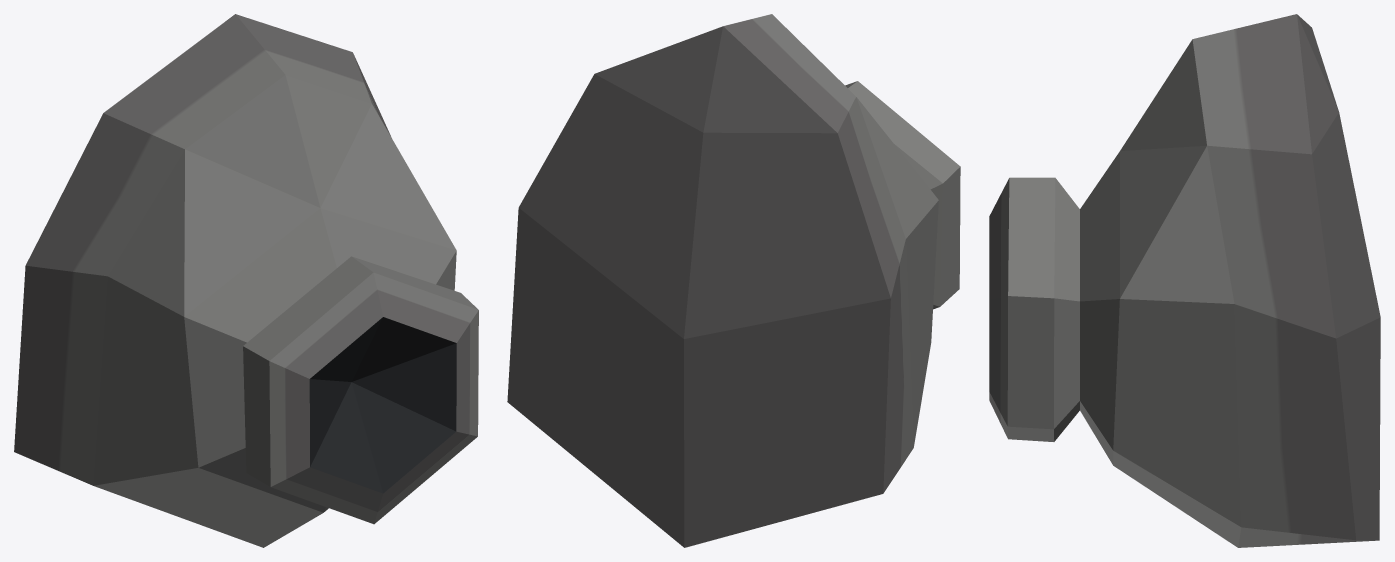
File: SM_Prop_Gas_Mask_01.fbx
3 views of the same model, side by side, from view 1: azimuth 30°, elevation 25°; view 2: azimuth 150°, elevation 25°; view 3: azimuth 270°, elevation 25° (orthographic). The views are drawn at different scales.
Visible parts, largest first — view 1: SM_Prop_Gas_Mask_01; view 2: SM_Prop_Gas_Mask_01; view 3: SM_Prop_Gas_Mask_01.
Boxes of the visible parts, x1,y1,x2,y2 form: SM_Prop_Gas_Mask_01: [14, 14, 478, 547]; SM_Prop_Gas_Mask_01: [507, 14, 960, 547]; SM_Prop_Gas_Mask_01: [989, 14, 1380, 547].
Bounding box in the file's own units: 14.69 × 18.68 × 12.41.
